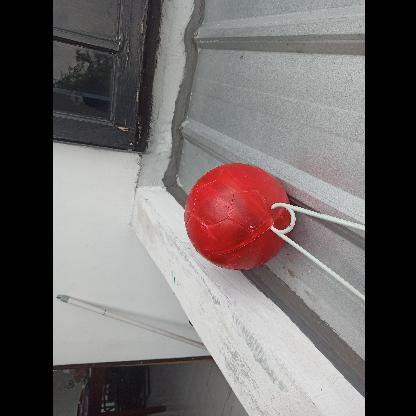red_ball: (180, 160, 290, 270)
